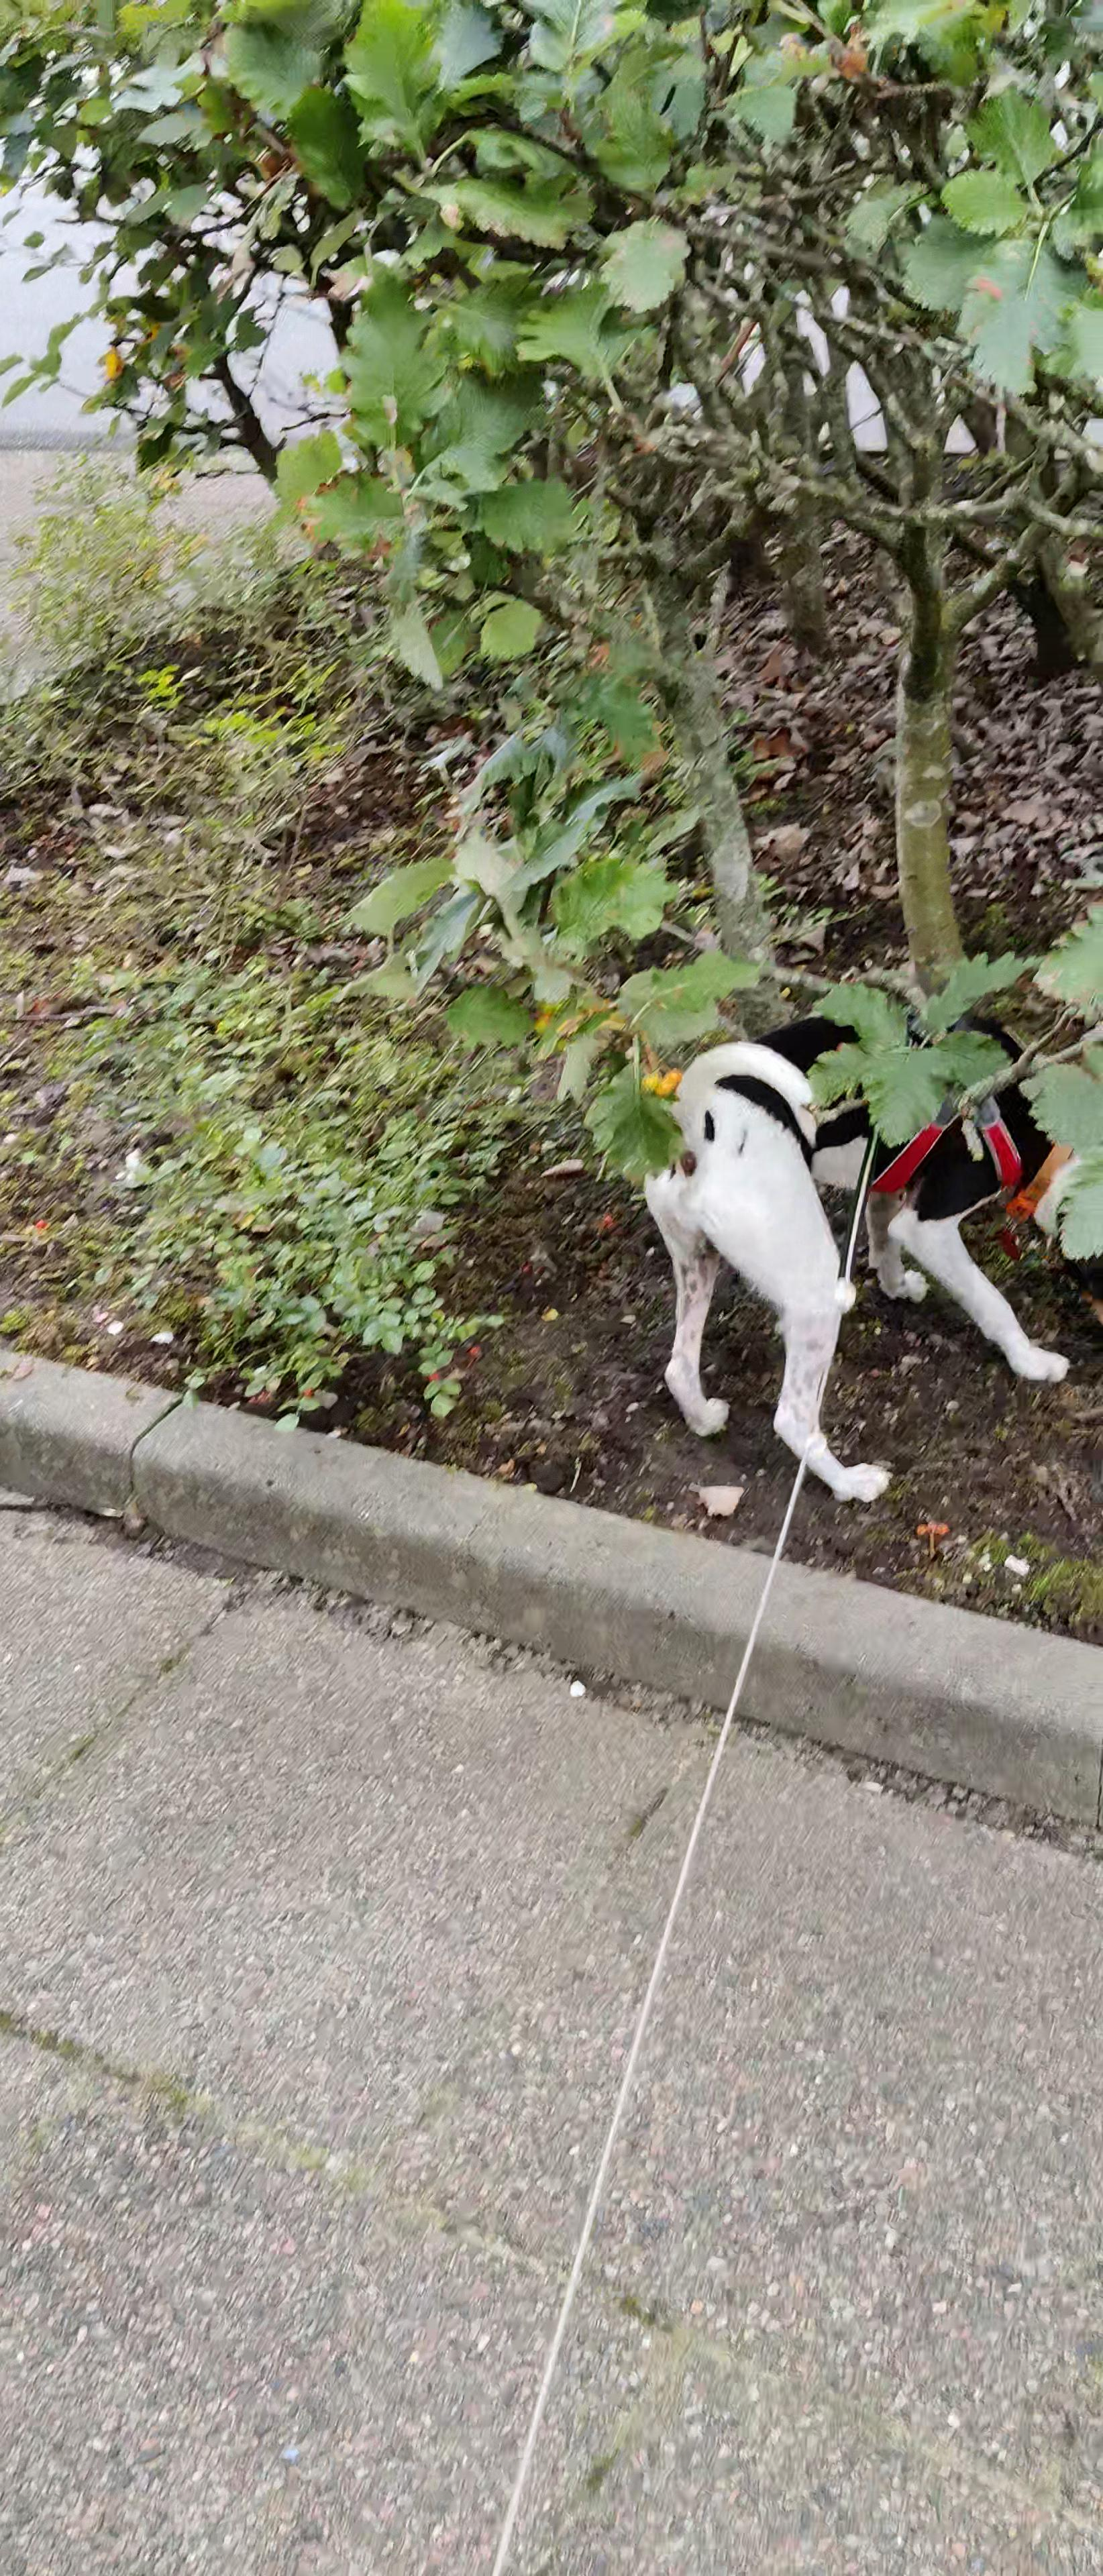Dog: (636, 984, 1103, 1515)
